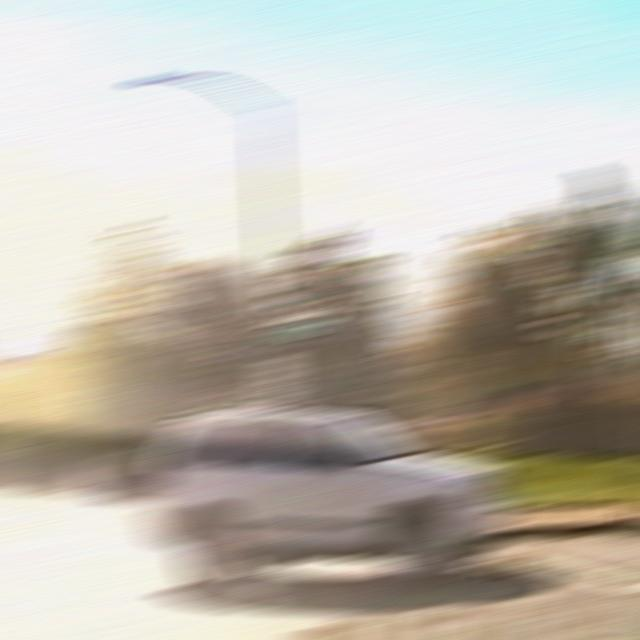speedLimit35: (255, 356, 300, 405)
